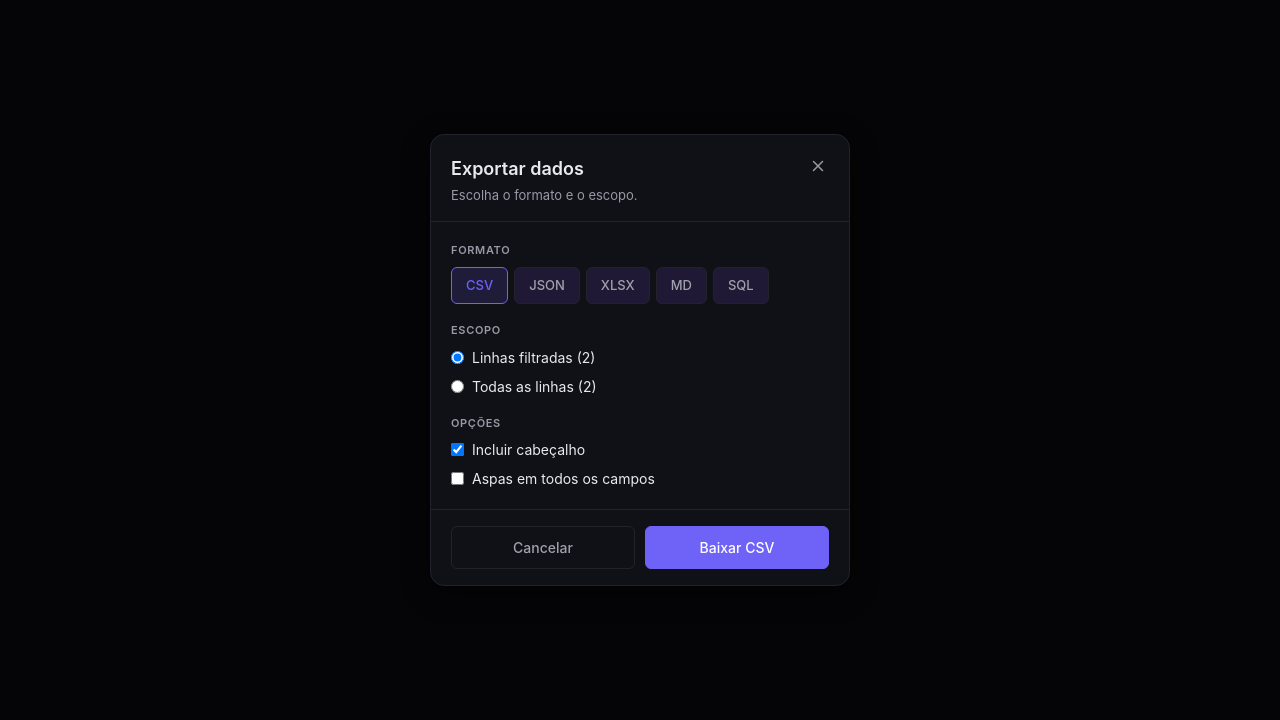
Test: ExportModal › RF-02 a RF-06 / UI-03 — troca de aba atualiza toggles e rótulo do botão › trocar para JSON desabilita ambos os toggles e atualiza o rótulo de "Baixar"
Click the tab with class "export-format-tab" showing "JSON".
click(547, 286)  # box [514,267,580,304]
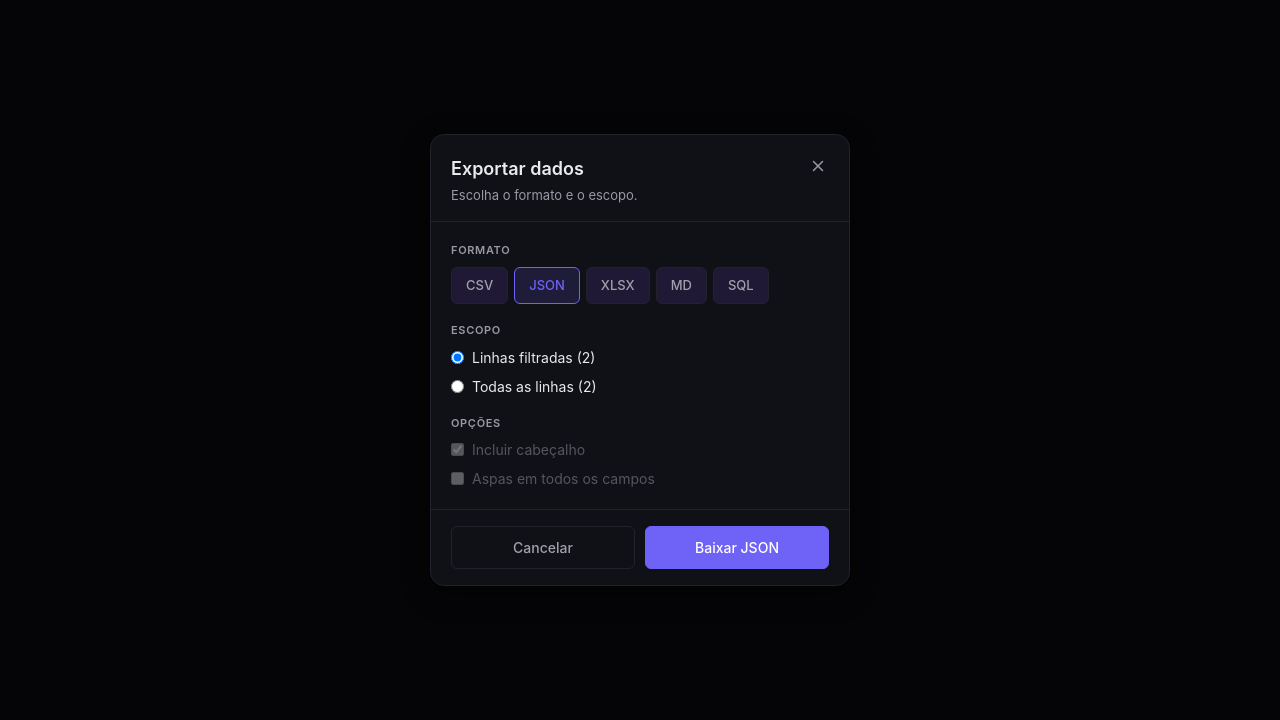
Check: the checkbox labelled "Incluir cabeçalho" is disabled, box [451,443,464,456]
Check: the checkbox labelled "Aspas em todos os campos" is disabled, box [451,472,464,485]
Check: the button with class "export-overlay__download" reads "Baixar JSON", box [645,526,829,569]
